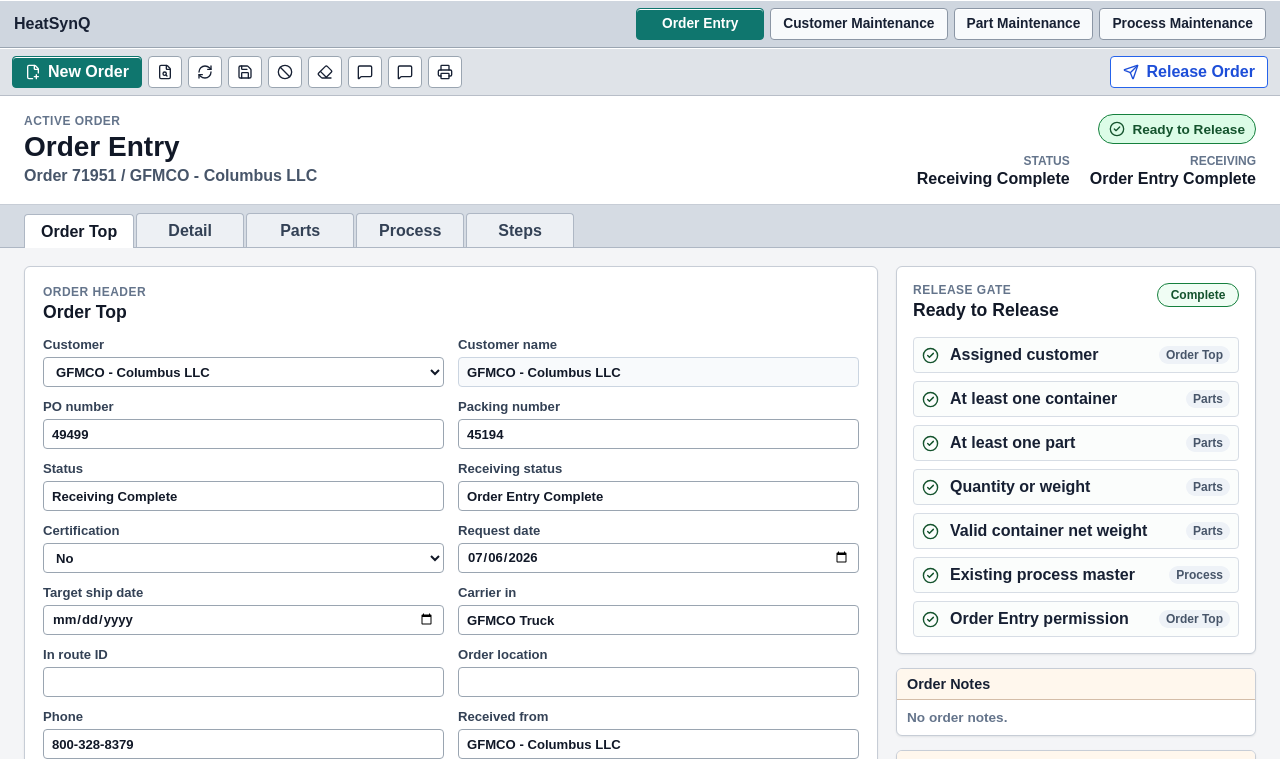
it: AppShell › switches between master-data modules
Click the button "Customer Maintenance".
click(859, 24)  # box [770,8,948,40]
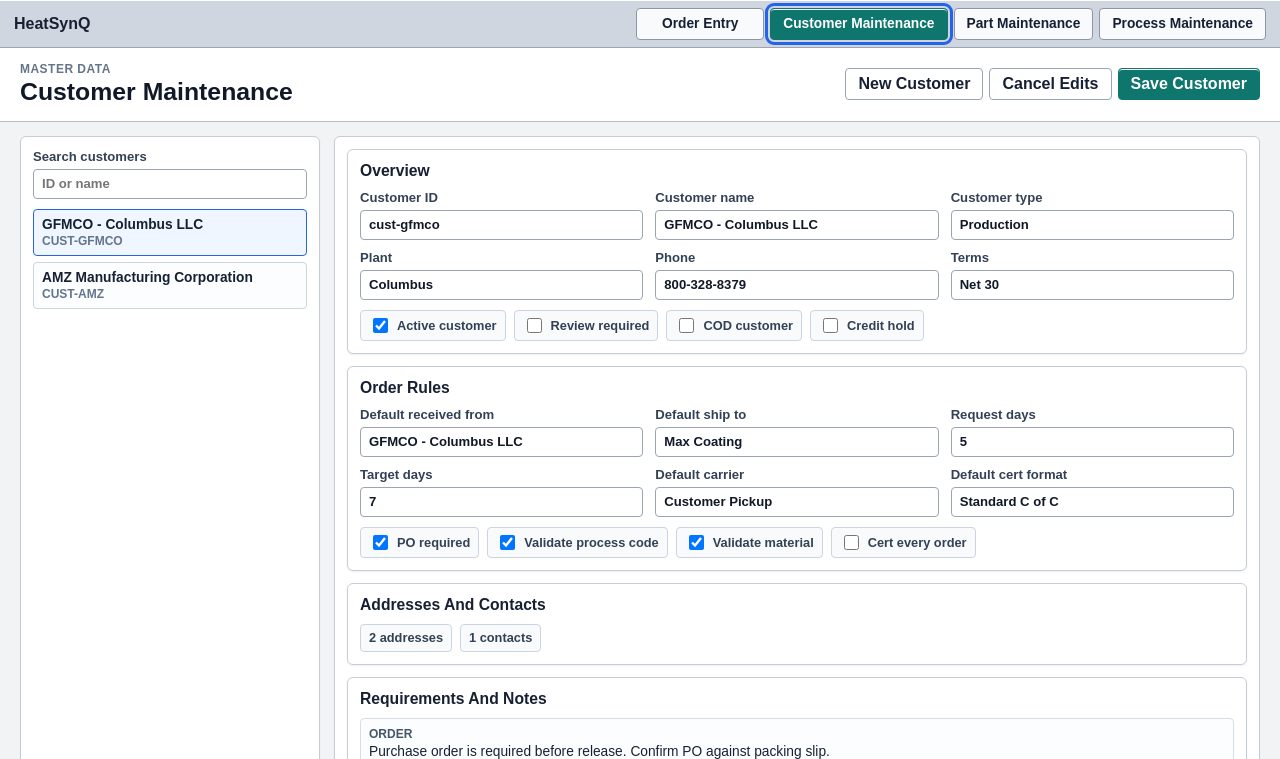
Result: the heading "Customer Maintenance" is shown at [20,78,293,106]
Click the button "Part Maintenance".
click(1023, 24)  # box [954,8,1093,40]
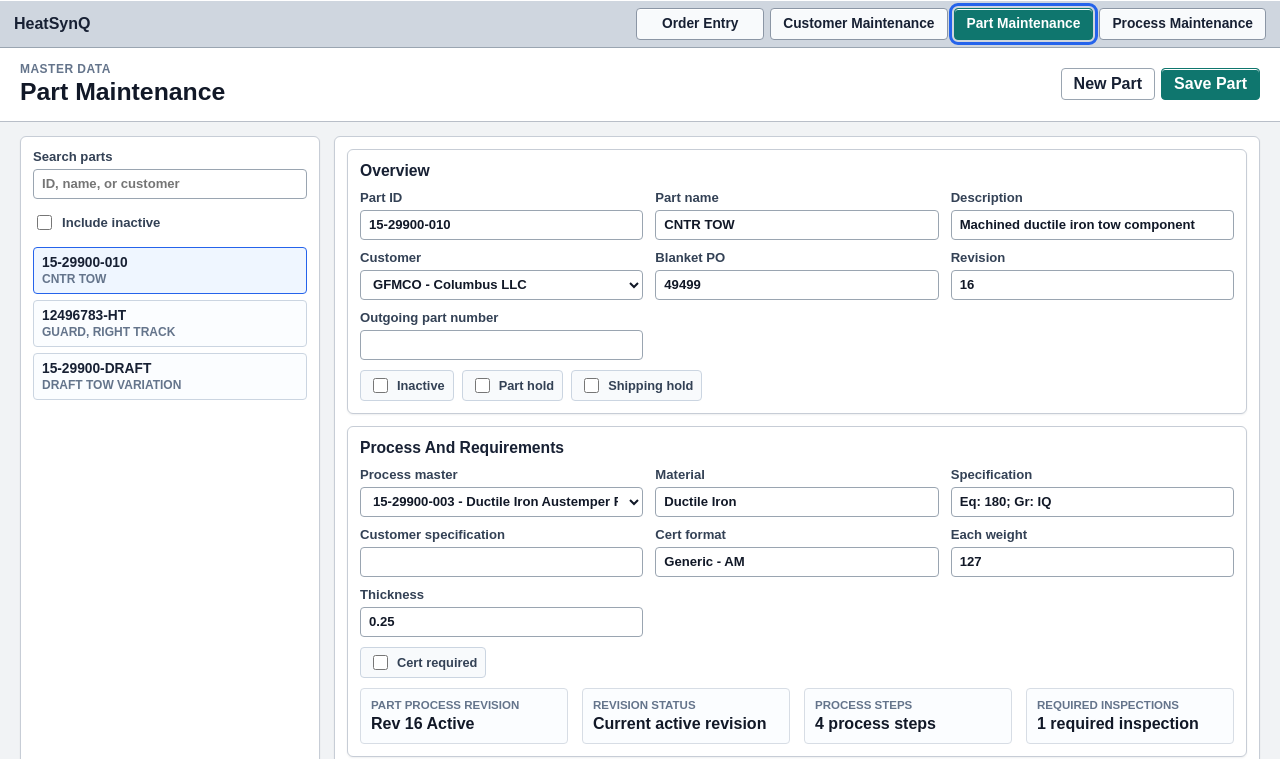
Result: the heading "Part Maintenance" is shown at [20,78,225,106]
Click the button "Process Maintenance".
click(1183, 24)  # box [1099,8,1266,40]
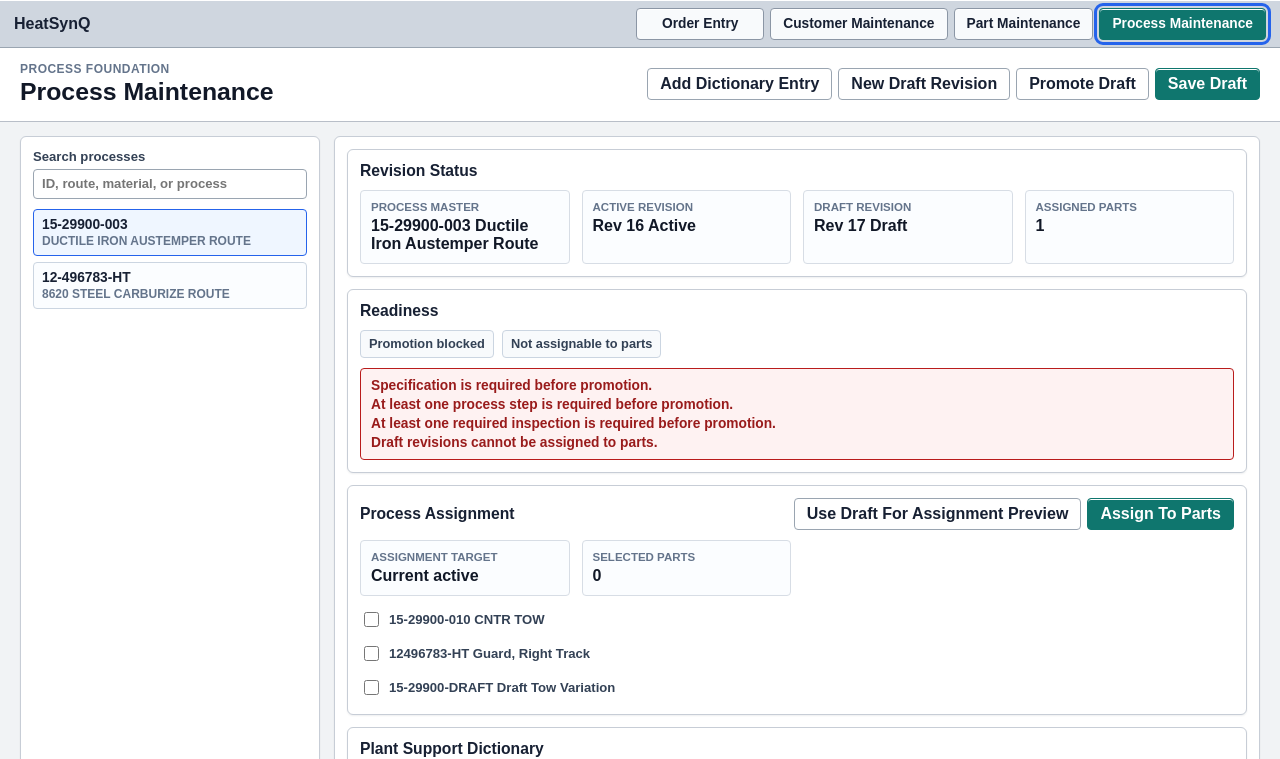
Result: the heading "Process Maintenance" is shown at [20,78,274,106]
